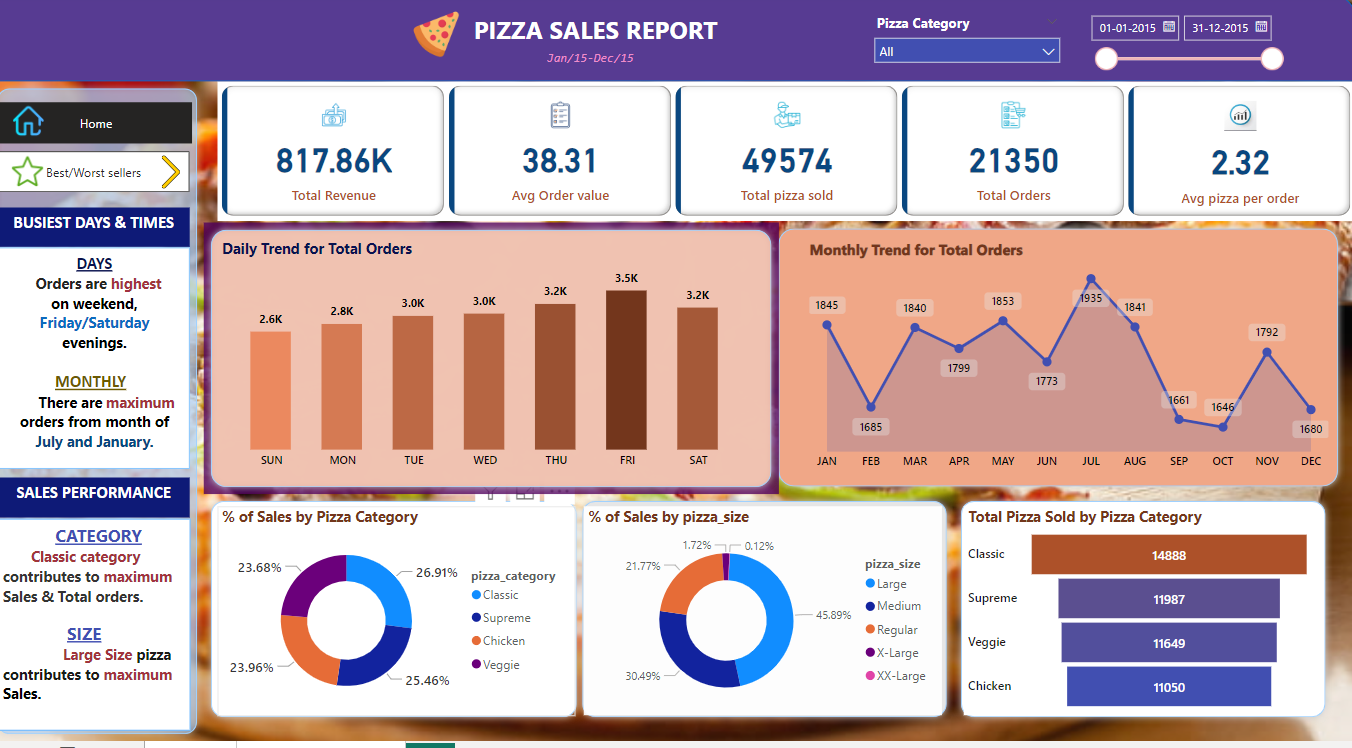

Layout of this report page (visuals, bound fields, positions):
{"tool":"powerbi","page":{"name":"Home","canvas":[1500,820],"ordinal":0},"visuals":[{"type":"cardVisual","fields":{"Data":["pizza_sales.Total Revenue","pizza_sales.Avg Order value","pizza_sales.Total pizza sold","pizza_sales.Total Orders","pizza_sales.Avg pizza per order"]},"box":[250,95,1250,153.8],"z":0},{"type":"shape","box":[0,0,1500,94.9],"z":1000},{"type":"textbox","box":[470.9,15.2,388.6,77.2],"z":2000},{"type":"textbox","box":[607.5,55,131.2,40],"z":3000},{"type":"image","box":[458.2,12.7,63.3,62],"z":4000},{"type":"shape","box":[0,94.9,235.4,725.3],"z":5000},{"type":"shape","box":[859,249.2,630.7,299.3],"z":6000},{"type":"areaChart","title":"Monthly Trend for Total Orders","fields":{"Category":["pizza_sales.Order Month"],"Y":["pizza_sales.Total Orders"]},"box":[895.2,267.3,580.5,263.1],"z":7000},{"type":"shape","box":[235.3,548.5,417.7,253.4],"z":8000},{"type":"shape","box":[643.2,548.5,416.3,253.4],"z":9000},{"type":"shape","box":[1059.5,548.5,416.3,253.4],"z":10000},{"type":"donutChart","title":"% of Sales by Pizza Category","fields":{"Category":["pizza_sales.pizza_category"],"Y":["pizza_sales.Total Revenue"]},"box":[250.6,562.4,392.6,229.7],"z":11000},{"type":"donutChart","title":"% of Sales by pizza_size","fields":{"Category":["pizza_sales.pizza_size"],"Y":["pizza_sales.Total Revenue"]},"box":[652.9,562.4,394,229.7],"z":12000},{"type":"funnel","title":"Total Pizza Sold by Pizza Category","fields":{"Category":["pizza_sales.pizza_category"],"Y":["pizza_sales.Total pizza sold"]},"box":[1070.6,562.4,387,229.7],"z":13000},{"type":"textbox","box":[8.9,234.2,211.4,43],"z":14000},{"type":"textbox","box":[8.9,277.2,211.4,243],"z":15000},{"type":"textbox","box":[8.9,530.4,211.4,44.3],"z":16000},{"type":"textbox","box":[8.4,575,211.6,232.5],"z":17000},{"type":"slicer","fields":{"Values":["pizza_sales.pizza_category"]},"box":[962,15.2,224.1,79.7],"z":18000},{"type":"slicer","fields":{"Values":["pizza_sales.order_date"]},"box":[1197.5,12.7,231.6,79.7],"z":19000},{"type":"pageNavigator","box":[11.4,117.7,211.4,45.6],"z":20000},{"type":"pageNavigator","box":[8.9,172.2,211.4,45.6],"z":21000},{"type":"image","box":[174.7,172.2,48.1,45.6],"z":22000},{"type":"image","box":[20.3,112.7,43,50.6],"z":23000},{"type":"image","box":[19,172.2,44.3,44.3],"z":24000},{"type":"shape","box":[235.4,249.4,631.6,298.7],"z":25000},{"type":"columnChart","title":"Daily Trend for Total Orders","fields":{"Category":["pizza_sales.Order Day"],"Y":["pizza_sales.Total Orders"]},"box":[250.6,267.1,588.6,263.3],"z":26000}]}

Visuals, with their boxes in screenshot pixels (x1, y1, x2, y2), scaled from the page's 1500x820 canvas onto the 1352x748 screenshot:
cardVisual - pizza_sales.Total Revenue x pizza_sales.Avg Order value: bbox=[225, 87, 1351, 227]
shape: bbox=[0, 0, 1351, 87]
textbox: bbox=[424, 14, 775, 84]
textbox: bbox=[548, 50, 666, 87]
image: bbox=[413, 12, 470, 68]
shape: bbox=[0, 87, 212, 747]
shape: bbox=[774, 227, 1343, 500]
"Monthly Trend for Total Orders" areaChart: bbox=[807, 244, 1330, 484]
shape: bbox=[212, 500, 589, 731]
shape: bbox=[580, 500, 955, 731]
shape: bbox=[955, 500, 1330, 731]
"% of Sales by Pizza Category" donutChart: bbox=[226, 513, 580, 723]
"% of Sales by pizza_size" donutChart: bbox=[588, 513, 944, 723]
"Total Pizza Sold by Pizza Category" funnel: bbox=[965, 513, 1314, 723]
textbox: bbox=[8, 214, 199, 253]
textbox: bbox=[8, 253, 199, 475]
textbox: bbox=[8, 484, 199, 524]
textbox: bbox=[8, 525, 198, 737]
slicer - pizza_sales.pizza_category: bbox=[867, 14, 1069, 87]
slicer - pizza_sales.order_date: bbox=[1079, 12, 1288, 84]
pageNavigator: bbox=[10, 107, 201, 149]
pageNavigator: bbox=[8, 157, 199, 199]
image: bbox=[157, 157, 201, 199]
image: bbox=[18, 103, 57, 149]
image: bbox=[17, 157, 57, 197]
shape: bbox=[212, 228, 781, 500]
"Daily Trend for Total Orders" columnChart: bbox=[226, 244, 756, 484]
